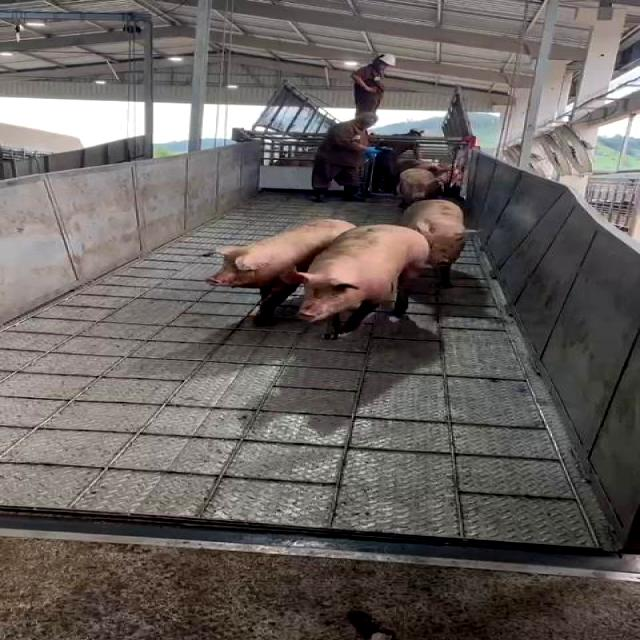pig: (210, 220, 353, 323), (300, 225, 427, 337), (401, 200, 467, 286), (398, 169, 439, 206)
